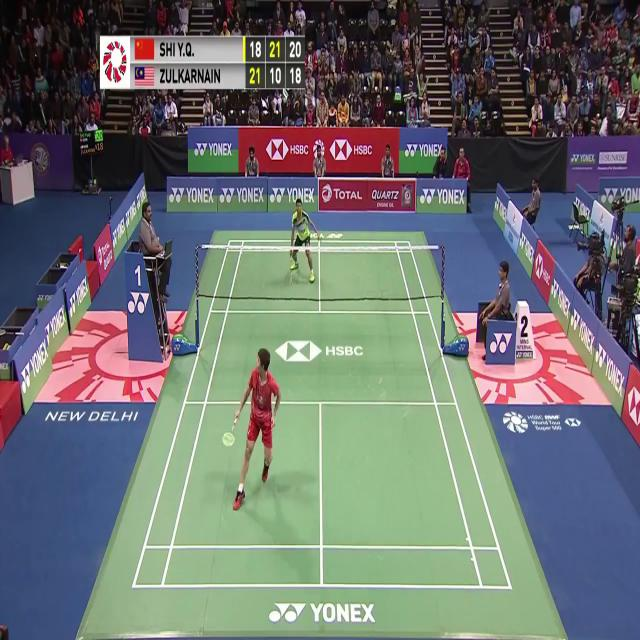Shuttlecock: (308, 191, 314, 202)
